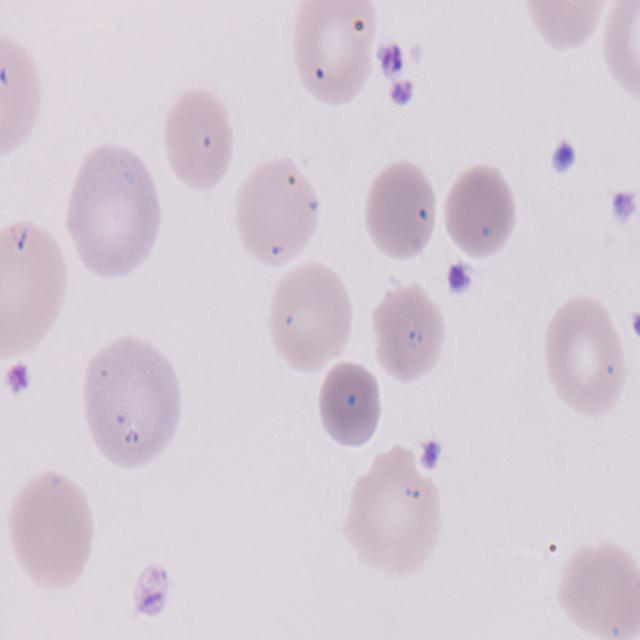RBC: (82, 330, 184, 470), (65, 138, 164, 282), (344, 451, 444, 582), (4, 472, 100, 596), (540, 296, 632, 419), (266, 258, 357, 378), (232, 156, 323, 271), (289, 0, 377, 112), (0, 219, 70, 358), (366, 280, 452, 388), (553, 544, 640, 640), (161, 86, 236, 196), (0, 31, 44, 161), (520, 0, 622, 52), (601, 0, 640, 105)
Spherocyte: (359, 159, 442, 270), (440, 164, 520, 265), (314, 360, 388, 456)
